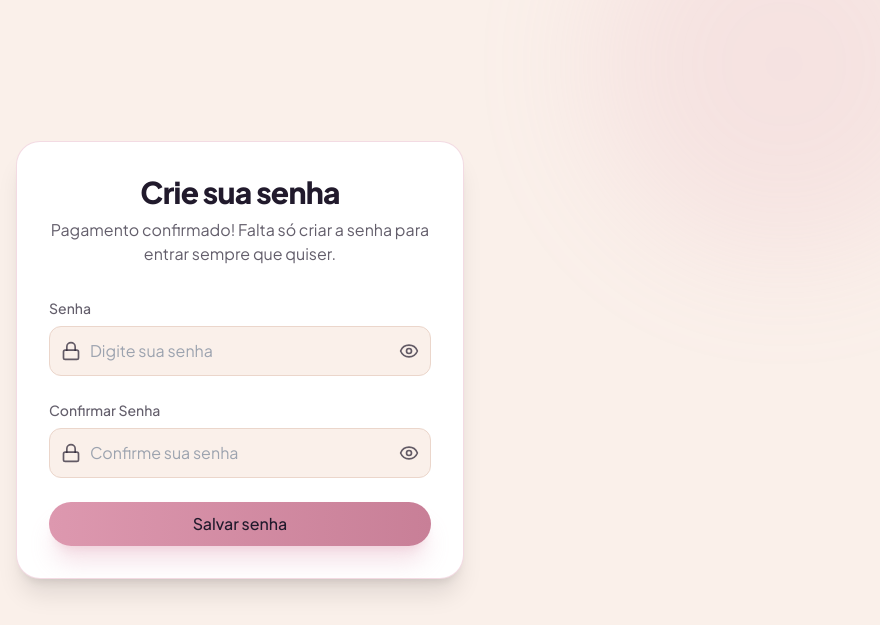
FirstAccess (/primeiro-acesso) › senha curta bloqueia o envio
The image size is (880, 625).
Expected: the heading "Crie sua senha" is shown, [140,173,340,211]
Type "abc" into the password field labelled "Senha" at {"x": 240, "y": 351}, box [49,326,431,376]
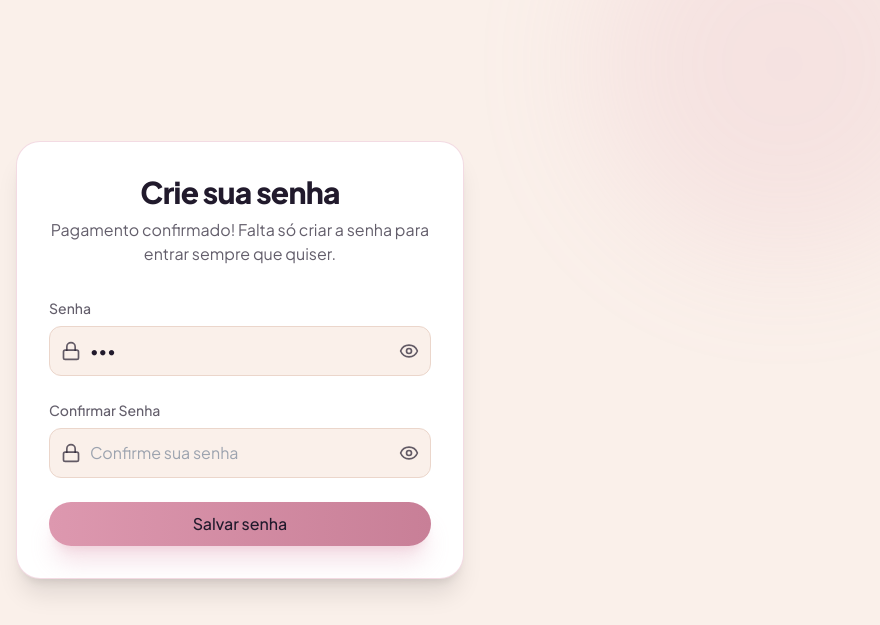
Type "abc" into the password field labelled "Confirmar Senha" at {"x": 240, "y": 453}, box [49,428,431,478]
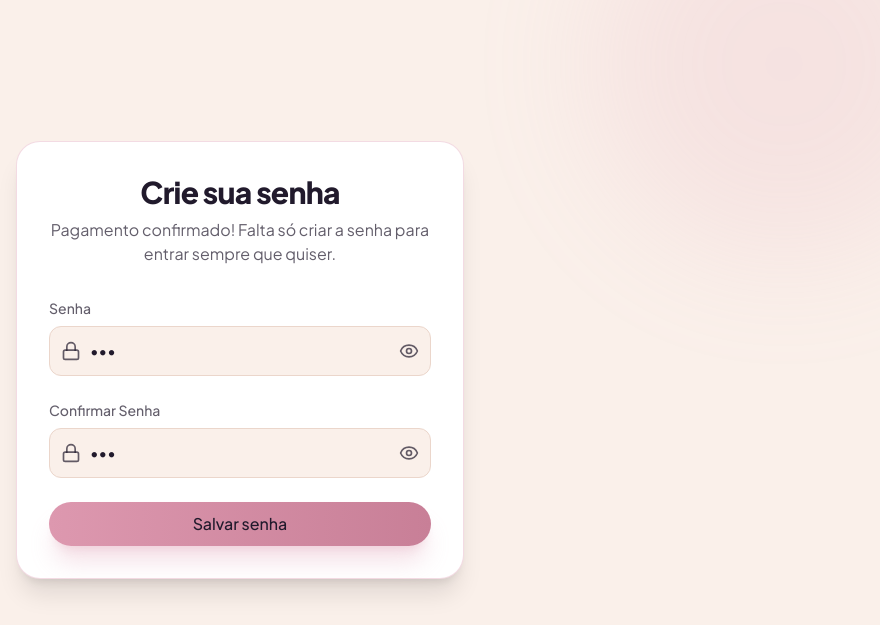
Click the button "Salvar senha" at {"x": 240, "y": 524}, box [49,502,431,546]
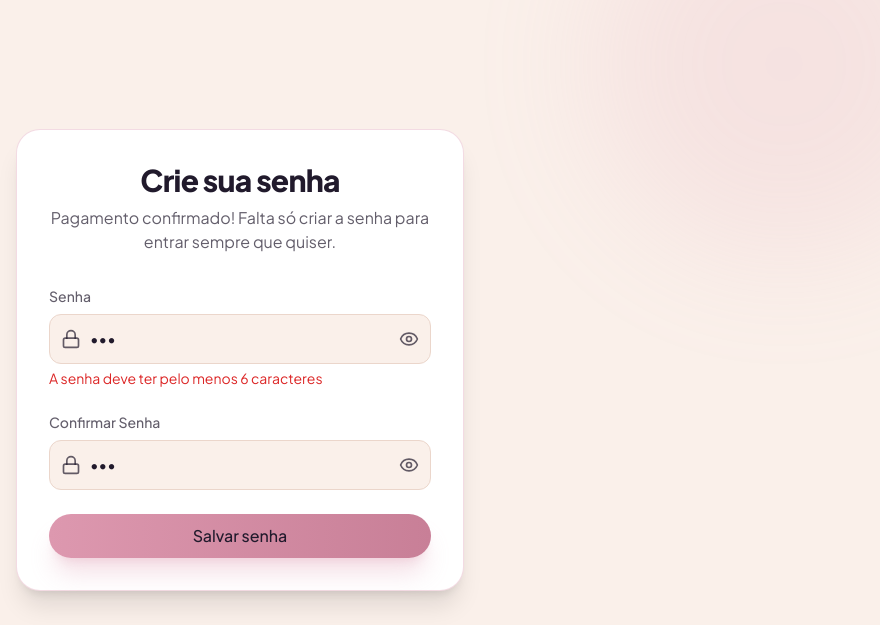
Result: the text "A senha deve ter pelo menos 6 caracteres" is shown at [49,369,322,387]
